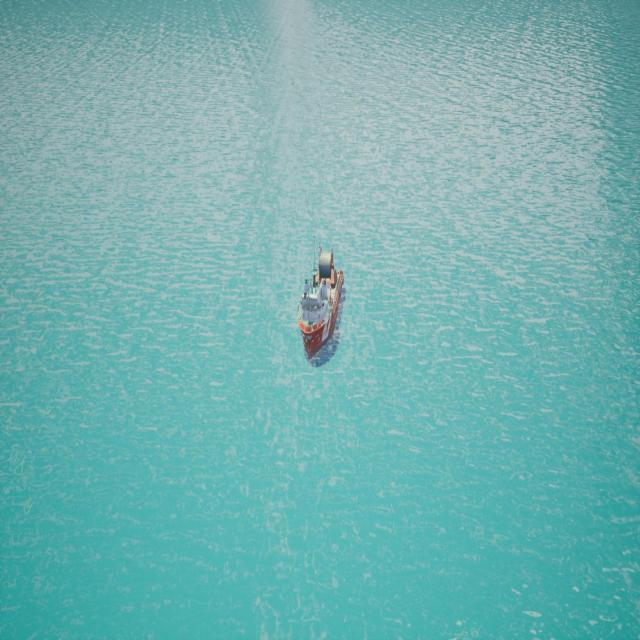tug boat: (287, 221, 348, 371)
